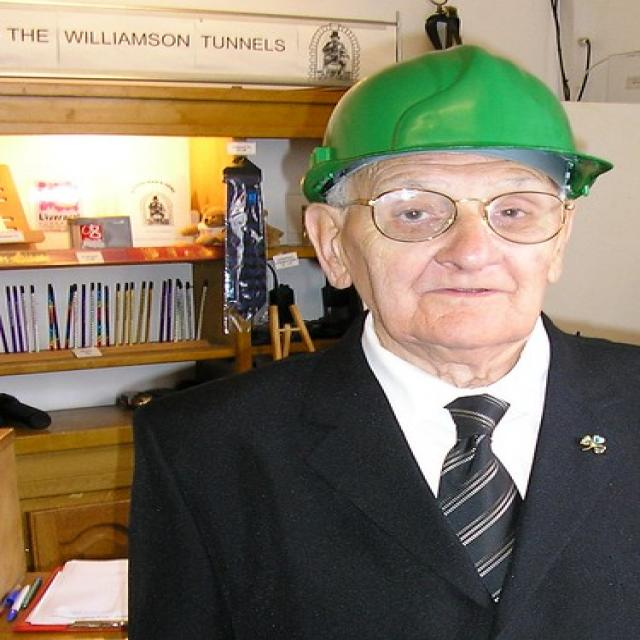Safety-Helmet: (298, 44, 620, 198)
